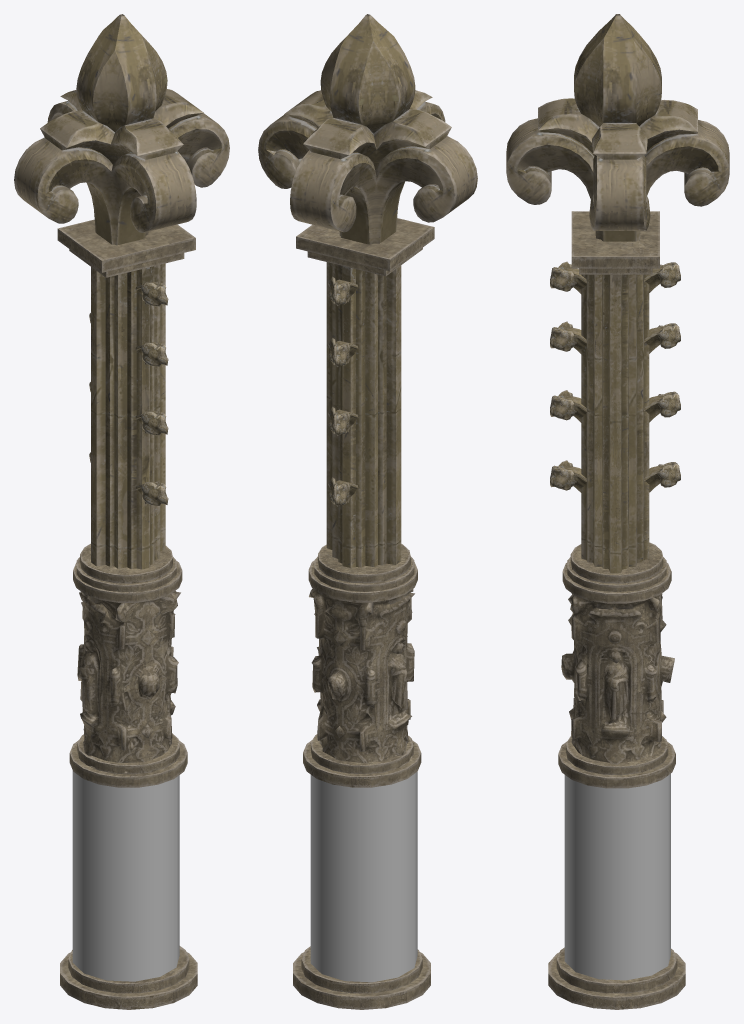
File: SM_roof_pillar.fbx
The picture shows the model from 3 angles, left to right: view 1: azimuth 30°, elevation 25°; view 2: azimuth 150°, elevation 25°; view 3: azimuth 270°, elevation 25°; orthographic projection.
Visible parts, largest first — view 1: SM_roof_pillar_LOD0; view 2: SM_roof_pillar_LOD0; view 3: SM_roof_pillar_LOD0.
Boxes of the visible parts, left/top/right/bottom form: SM_roof_pillar_LOD0: left=14, top=14, right=229, bottom=1009; SM_roof_pillar_LOD0: left=258, top=14, right=477, bottom=1009; SM_roof_pillar_LOD0: left=506, top=14, right=729, bottom=1009.
Bounding box in the file's own units: 98.11 × 98.11 × 466.
